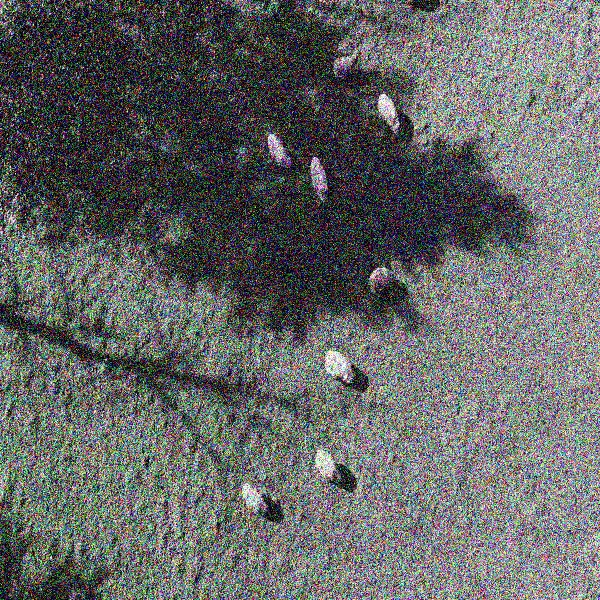sheep: (323, 342, 359, 394), (313, 441, 347, 494), (307, 151, 335, 213), (267, 128, 298, 176), (238, 477, 273, 519), (374, 87, 400, 138), (328, 42, 361, 77), (365, 261, 398, 296)
